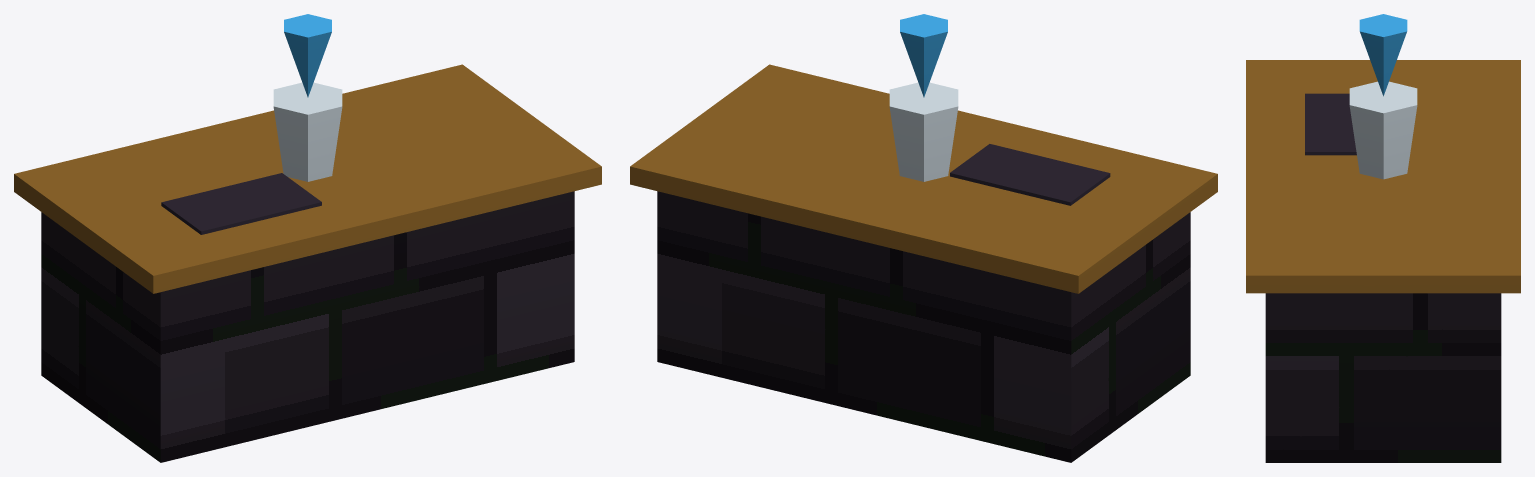
File: dark_altar.glb
The picture shows the model from 3 angles, left to right: view 1: azimuth 30°, elevation 25°; view 2: azimuth 150°, elevation 25°; view 3: azimuth 270°, elevation 25°; orthographic projection.
Parts seen in each view (by area): view 1: dark_altar; view 2: dark_altar; view 3: dark_altar.
Boxes of the visible parts, x1,y1,x2,y2 form: dark_altar: (14, 14, 601, 462); dark_altar: (630, 14, 1217, 462); dark_altar: (1246, 14, 1520, 462).
Bounding box in the file's own units: 2.6 × 1.9 × 1.4.
Materials: 3 (1 with a texture image).
